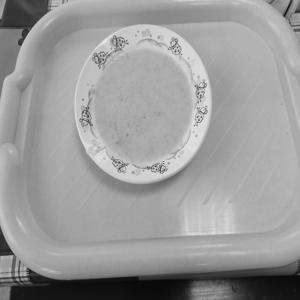porridge: (89, 24, 198, 172)
